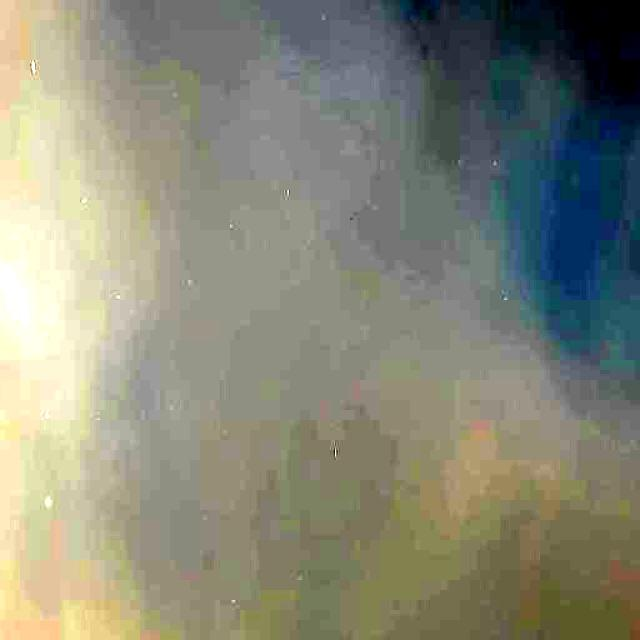drone: (365, 0, 479, 44)
